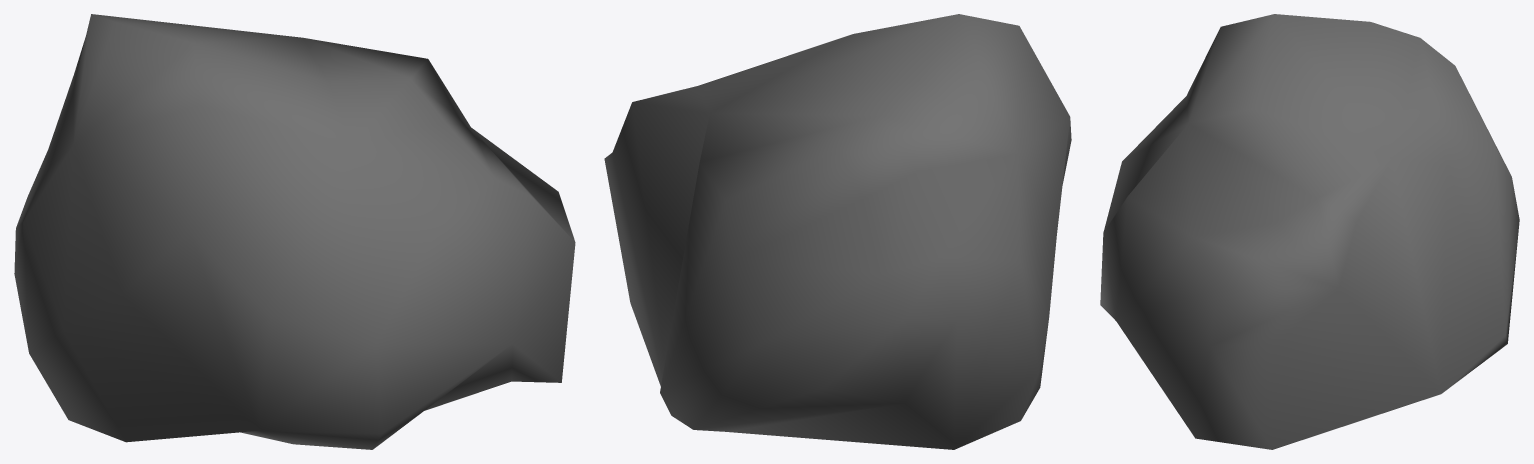
The model's file is Piedra_2_FBX.fbx.
3 renders of one model, left to right at view 1: azimuth 30°, elevation 25°; view 2: azimuth 150°, elevation 25°; view 3: azimuth 270°, elevation 25°, orthographic. The views are drawn at different scales.
Visible parts, largest first — view 1: Piedra_2; view 2: Piedra_2; view 3: Piedra_2.
Boxes of the visible parts, x1,y1,x2,y2 form: Piedra_2: [14, 14, 575, 449]; Piedra_2: [604, 14, 1071, 449]; Piedra_2: [1100, 14, 1519, 449].
Bounding box in the file's own units: 1.72 × 1.29 × 1.61.
